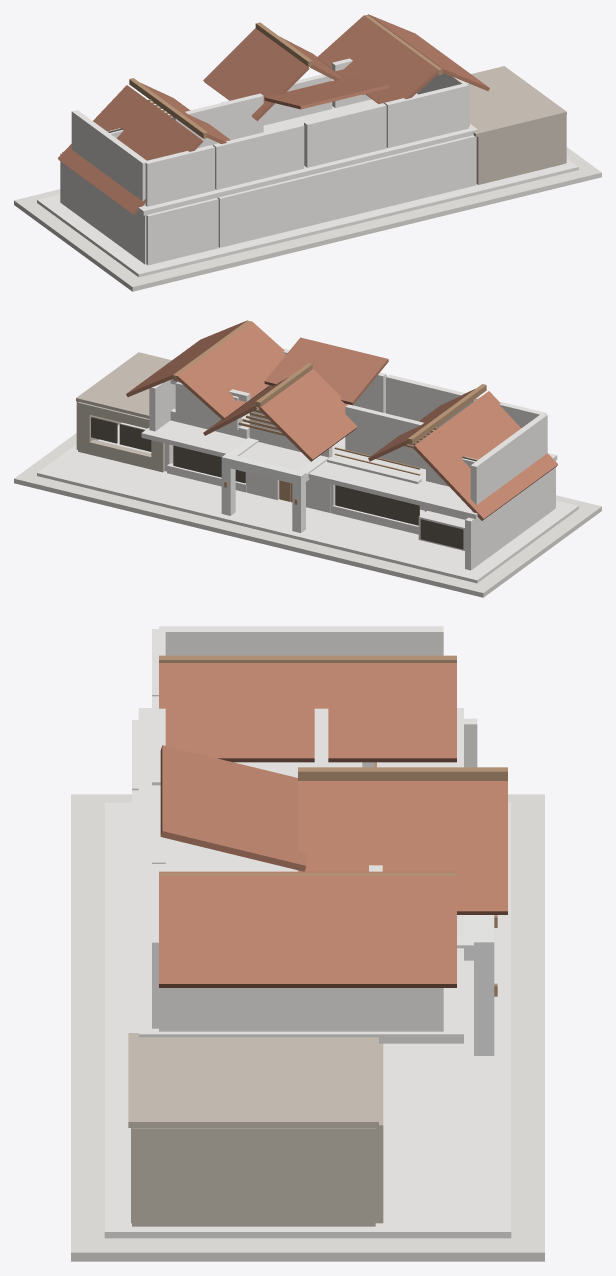
The model's file is zeyarch-reference-house.glb.
3 views of the same model, one above another, from view 1: azimuth 30°, elevation 25°; view 2: azimuth 150°, elevation 25°; view 3: azimuth 270°, elevation 25° (orthographic). The views are drawn at different scales.
Visible parts, largest first — view 1: upper_floor_walls, ground_floor_walls, roof_finishes, foundation, stone_clad_wing, ground_floor_slab, upper_floor_slab, roof_structure; view 2: roof_finishes, ground_floor_slab, upper_floor_walls, foundation, upper_floor_slab, ground_floor_walls, stone_clad_wing, window_frames, central_entrance_frame, roof_structure, architectural_details; view 3: roof_finishes, stone_clad_wing, ground_floor_slab, foundation, upper_floor_walls, upper_floor_slab, roof_structure, central_entrance_frame, ground_floor_walls.
Boxes of the visible parts, bbox=[...] form: upper_floor_walls: bbox=[71, 58, 469, 206]; ground_floor_walls: bbox=[60, 135, 476, 265]; roof_finishes: bbox=[58, 14, 489, 214]; foundation: bbox=[14, 147, 601, 291]; stone_clad_wing: bbox=[470, 66, 566, 184]; ground_floor_slab: bbox=[37, 158, 578, 277]; upper_floor_slab: bbox=[62, 93, 477, 215]; roof_structure: bbox=[129, 14, 442, 138]; roof_finishes: bbox=[126, 320, 557, 520]; ground_floor_slab: bbox=[37, 422, 578, 583]; upper_floor_walls: bbox=[149, 348, 547, 504]; foundation: bbox=[14, 433, 601, 597]; upper_floor_slab: bbox=[141, 413, 557, 519]; ground_floor_walls: bbox=[165, 443, 555, 570]; stone_clad_wing: bbox=[76, 352, 171, 472]; window_frames: bbox=[91, 417, 477, 549]; central_entrance_frame: bbox=[221, 438, 330, 532]; roof_structure: bbox=[173, 320, 486, 444]; architectural_details: bbox=[224, 407, 440, 504]; roof_finishes: bbox=[159, 663, 507, 987]; stone_clad_wing: bbox=[128, 1033, 383, 1226]; ground_floor_slab: bbox=[104, 802, 511, 1238]; foundation: bbox=[71, 794, 544, 1261]; upper_floor_walls: bbox=[152, 626, 443, 1031]; upper_floor_slab: bbox=[138, 708, 463, 1043]; roof_structure: bbox=[159, 655, 507, 875]; central_entrance_frame: bbox=[457, 915, 494, 1055]; ground_floor_walls: bbox=[132, 718, 477, 1032].
Size of the model in its own units: 32 by 8.58 by 14.
